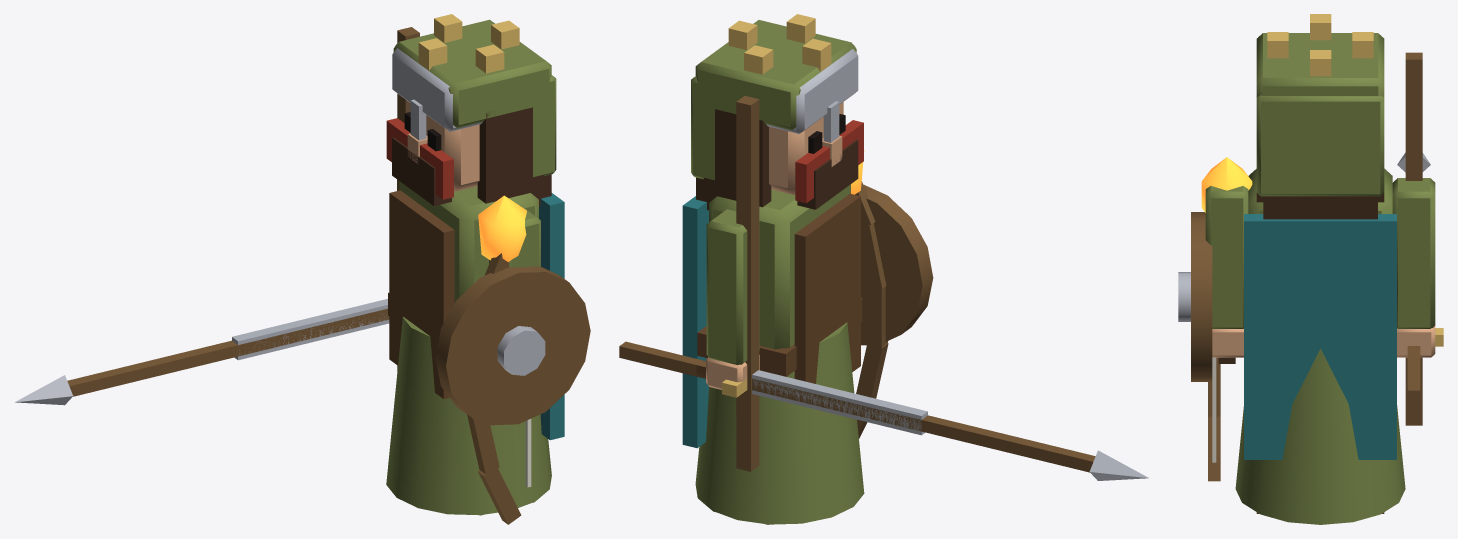
File: person.glb
The picture shows the model from 3 angles, left to right: view 1: azimuth 30°, elevation 25°; view 2: azimuth 150°, elevation 25°; view 3: azimuth 270°, elevation 25°; orthographic projection.
Visible parts, largest first — view 1: shield, robe, hood, apron, spear, hairLong, body, helm, bow, head, crown, cape (+5 smaller); view 2: robe, apron, hood, body, spear, armR, staff, shield, cape, sword, bow, helm (+5 smaller); view 3: cape, hood, robe, armR, armL, shield, staff, hairLong, crown, bow, torch, spear (+1 smaller).
Boxes of the visible parts, x1,y1,x2,y2 form: shield: [435, 266, 590, 425]; robe: [386, 316, 551, 515]; hood: [393, 19, 556, 177]; apron: [389, 190, 454, 398]; spear: [15, 308, 389, 405]; hairLong: [477, 107, 551, 206]; body: [388, 181, 538, 315]; helm: [392, 48, 482, 140]; bow: [467, 253, 531, 524]; head: [404, 100, 479, 191]; crown: [395, 14, 519, 90]; cape: [539, 193, 564, 440]; robe: [695, 322, 864, 524]; apron: [794, 193, 860, 383]; hood: [691, 20, 856, 180]; body: [697, 184, 862, 376]; spear: [619, 341, 1148, 480]; armR: [706, 209, 759, 389]; staff: [736, 96, 759, 471]; shield: [861, 184, 933, 345]; cape: [682, 196, 708, 448]; sword: [696, 360, 927, 435]; bow: [855, 181, 888, 438]; helm: [766, 49, 858, 142]; cape: [1244, 214, 1396, 459]; hood: [1256, 33, 1384, 196]; robe: [1235, 348, 1405, 524]; armR: [1392, 178, 1435, 357]; armL: [1205, 186, 1248, 357]; shield: [1178, 212, 1212, 381]; staff: [1405, 52, 1422, 425]; hairLong: [1256, 193, 1384, 219]; crown: [1267, 14, 1373, 76]; bow: [1208, 357, 1220, 481]; torch: [1201, 157, 1252, 363]; spear: [1397, 152, 1430, 402].
Size of the model in its own units: 1.43 by 1.19 by 0.625.
